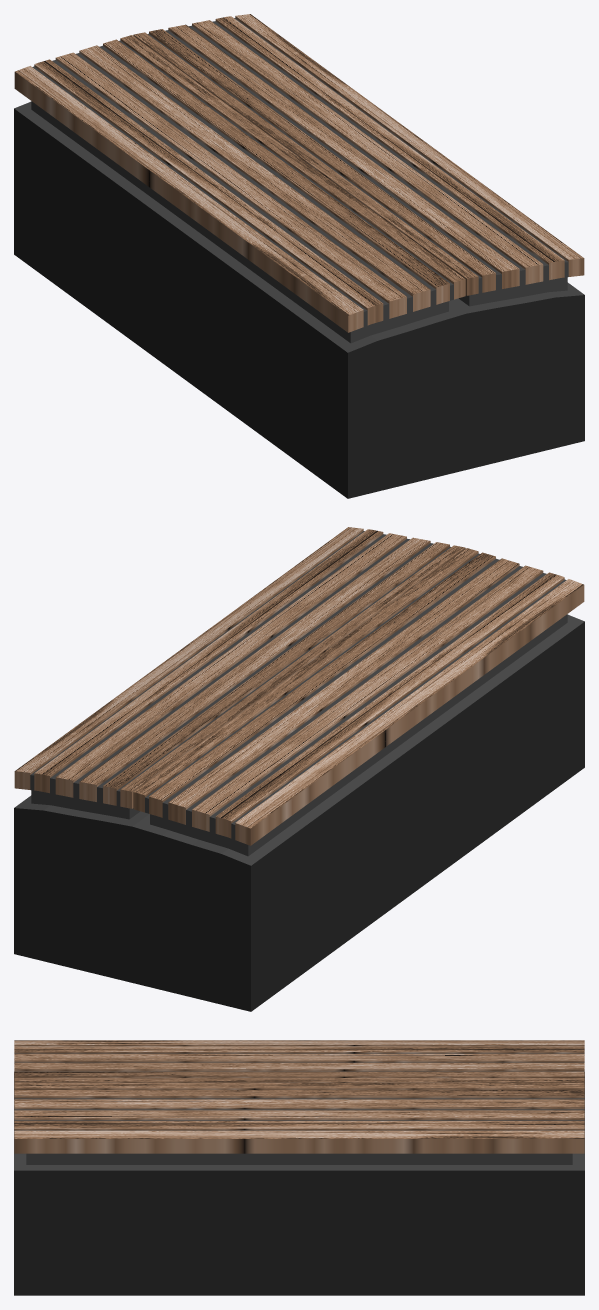
Rendered from Bench.fbx.
The picture shows the model from 3 angles, top to bottom: view 1: azimuth 30°, elevation 25°; view 2: azimuth 150°, elevation 25°; view 3: azimuth 270°, elevation 25°; orthographic projection. The views are drawn at different scales.
Visible parts, largest first — view 1: Cube.001; view 2: Cube.001; view 3: Cube.001.
Boxes of the visible parts, x1,y1,x2,y2 form: Cube.001: [14, 14, 584, 498]; Cube.001: [14, 527, 584, 1011]; Cube.001: [14, 1040, 584, 1295].
Size of the model in its own units: 86.54 by 66.6 by 211.
3 materials, 1 textured.
